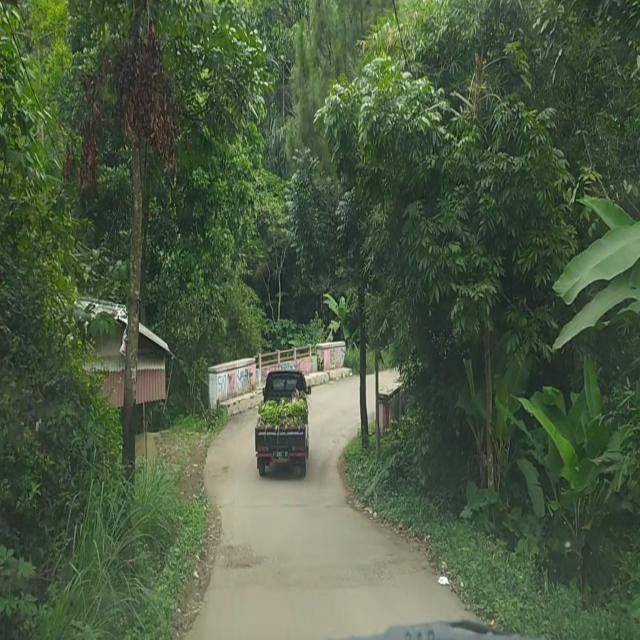Drain Hole: (218, 537, 260, 568)
